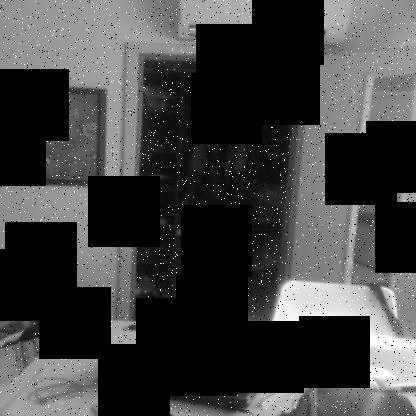Porte: (115, 42, 415, 396)
